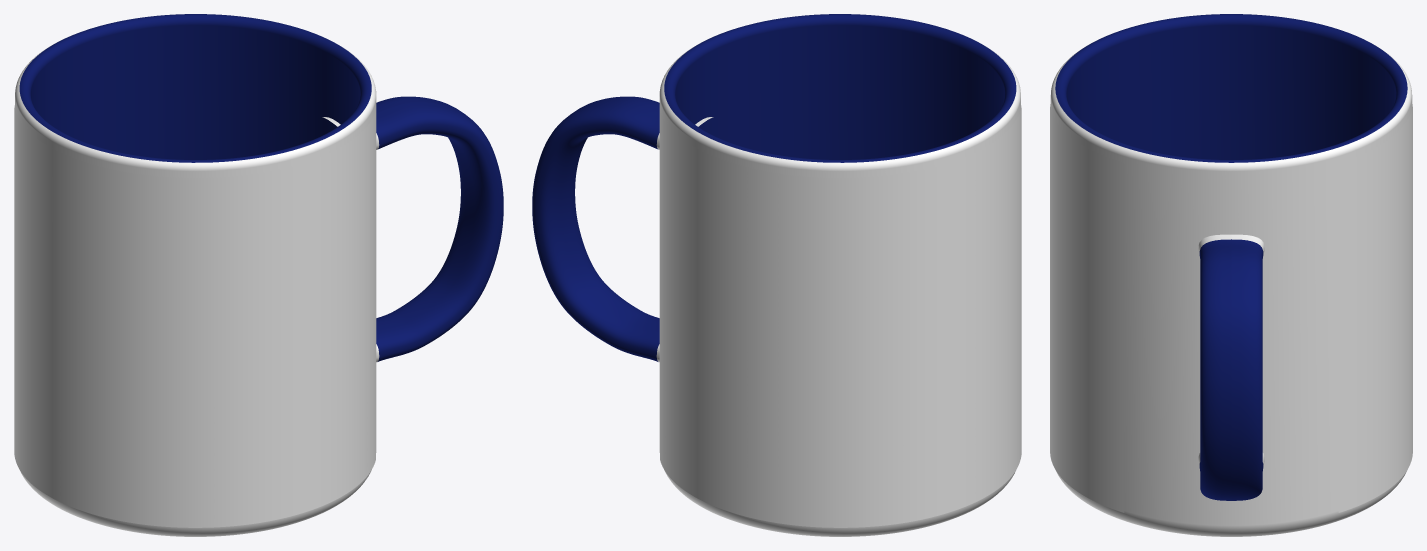
File: caneca_tradicional.glb
The picture shows the model from 3 angles, left to right: view 1: azimuth 30°, elevation 25°; view 2: azimuth 150°, elevation 25°; view 3: azimuth 270°, elevation 25°; orthographic projection.
Parts seen in each view (by area): view 1: Area_Arte, Interior_Caneca, Alca_Tradicional, Corpo_Externo; view 2: Area_Arte, Interior_Caneca, Alca_Tradicional, Corpo_Externo; view 3: Corpo_Externo, Area_Arte, Interior_Caneca, Alca_Tradicional.
Boxes of the visible parts, <box> form: Area_Arte: <box>14,105,375,527</box>; Interior_Caneca: <box>19,14,371,162</box>; Alca_Tradicional: <box>322,96,503,362</box>; Corpo_Externo: <box>15,37,376,536</box>; Area_Arte: <box>660,105,1021,527</box>; Interior_Caneca: <box>664,14,1016,162</box>; Alca_Tradicional: <box>532,96,713,362</box>; Corpo_Externo: <box>659,37,1020,536</box>; Corpo_Externo: <box>1050,37,1412,536</box>; Area_Arte: <box>1050,104,1412,512</box>; Interior_Caneca: <box>1055,14,1407,162</box>; Alca_Tradicional: <box>1198,234,1264,500</box>.
Bounding box in the file's own units: 0.1195 × 0.095 × 0.0823.
Materials: 3 (1 with a texture image).
